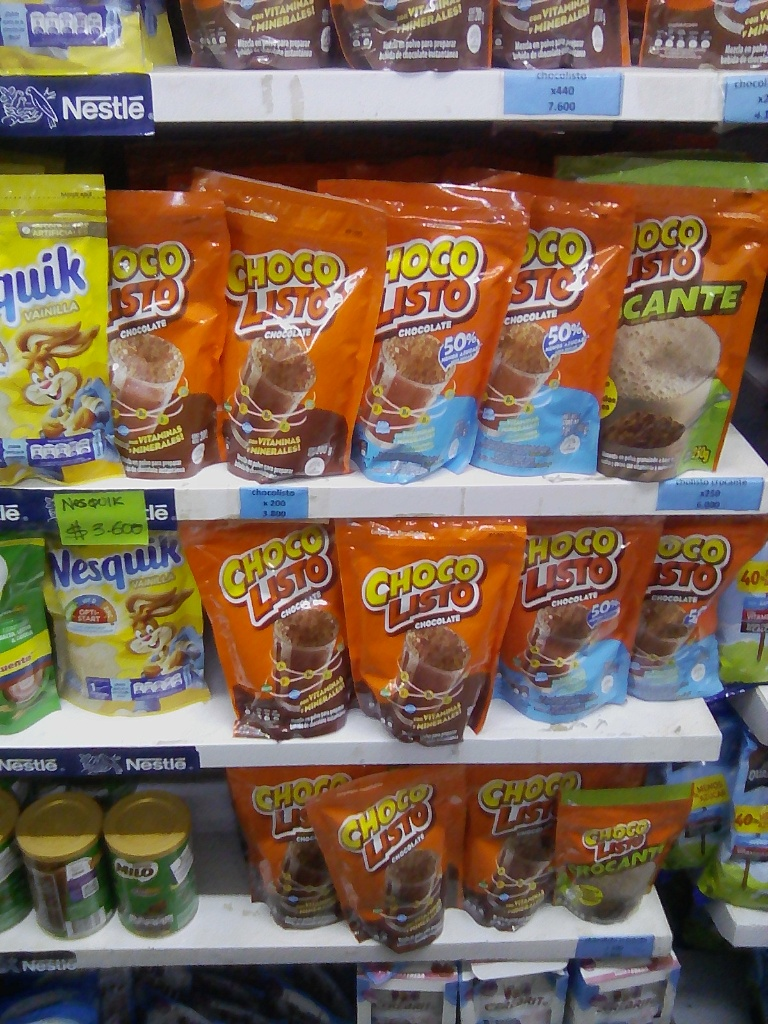COL0170102DYP10000: (552, 773, 711, 925)
COL0170102DYP25000: (554, 152, 768, 477)
COL0170103DYP20000: (190, 525, 357, 736)
COL0170104DYP20000: (320, 160, 512, 474)
COL0170203LAT20000: (23, 786, 106, 936)
COL0170306DYP20000: (43, 536, 214, 725)
